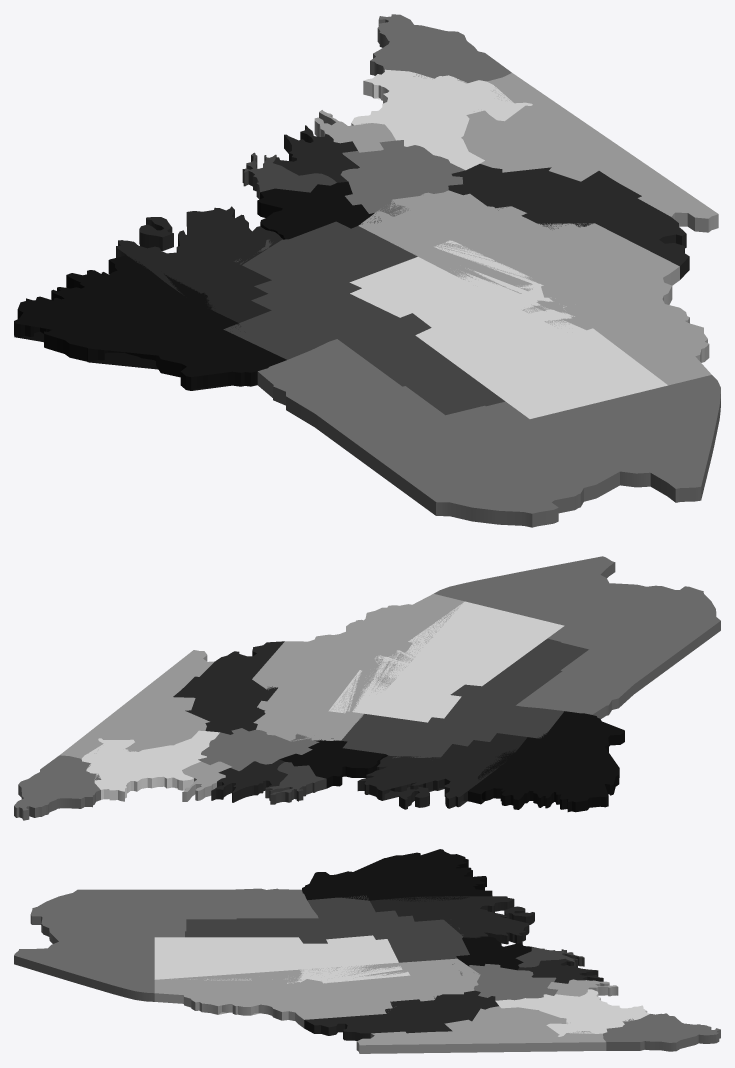
The model's file is Maine_Counties_3D.fbx.
3 views of the same model, one above another, from view 1: azimuth 30°, elevation 25°; view 2: azimuth 150°, elevation 25°; view 3: azimuth 270°, elevation 25° (orthographic). The views are drawn at different scales.
Parts seen in each view (by area): view 1: ME_Aroostook_County_3D, ME_Somerset_County_3D, ME_Piscataquis_County_3D, ME_Penobscot_County_3D, ME_Washington_County_3D, ME_Oxford_County_3D, ME_Franklin_County_3D, ME_Hancock_County_3D, ME_Cumberland_County_3D, ME_Kennebec_County_3D, ME_York_County_3D, ME_Waldo_County_3D (+4 smaller); view 2: ME_Aroostook_County_3D, ME_Somerset_County_3D, ME_Piscataquis_County_3D, ME_Penobscot_County_3D, ME_Washington_County_3D, ME_Hancock_County_3D, ME_Oxford_County_3D, ME_Franklin_County_3D, ME_Cumberland_County_3D, ME_York_County_3D, ME_Kennebec_County_3D, ME_Waldo_County_3D (+4 smaller); view 3: ME_Aroostook_County_3D, ME_Somerset_County_3D, ME_Piscataquis_County_3D, ME_Penobscot_County_3D, ME_Oxford_County_3D, ME_Washington_County_3D, ME_Hancock_County_3D, ME_Franklin_County_3D, ME_York_County_3D, ME_Cumberland_County_3D, ME_Kennebec_County_3D, ME_Waldo_County_3D (+4 smaller).
Boxes of the visible parts, left/top/right/bottom form: ME_Aroostook_County_3D: left=257, top=339, right=720, bottom=527; ME_Somerset_County_3D: left=358, top=190, right=711, bottom=385; ME_Piscataquis_County_3D: left=349, top=240, right=667, bottom=418; ME_Penobscot_County_3D: left=223, top=221, right=505, bottom=415; ME_Washington_County_3D: left=14, top=255, right=286, bottom=390; ME_Oxford_County_3D: left=461, top=73, right=718, bottom=232; ME_Franklin_County_3D: left=448, top=164, right=689, bottom=279; ME_Hancock_County_3D: left=116, top=206, right=282, bottom=322; ME_Cumberland_County_3D: left=351, top=69, right=532, bottom=125; ME_Kennebec_County_3D: left=340, top=140, right=465, bottom=216; ME_York_County_3D: left=370, top=14, right=511, bottom=83; ME_Waldo_County_3D: left=257, top=181, right=381, bottom=239; ME_Aroostook_County_3D: left=434, top=556, right=720, bottom=718; ME_Somerset_County_3D: left=252, top=594, right=464, bottom=741; ME_Piscataquis_County_3D: left=328, top=601, right=564, bottom=722; ME_Penobscot_County_3D: left=341, top=638, right=588, bottom=758; ME_Washington_County_3D: left=468, top=711, right=624, bottom=812; ME_Hancock_County_3D: left=357, top=733, right=527, bottom=809; ME_Oxford_County_3D: left=60, top=650, right=214, bottom=758; ME_Franklin_County_3D: left=173, top=641, right=284, bottom=734; ME_Cumberland_County_3D: left=81, top=738, right=193, bottom=801; ME_York_County_3D: left=14, top=755, right=101, bottom=820; ME_Kennebec_County_3D: left=198, top=728, right=319, bottom=770; ME_Waldo_County_3D: left=280, top=738, right=387, bottom=788; ME_Aroostook_County_3D: left=14, top=888, right=318, bottom=1001; ME_Somerset_County_3D: left=154, top=958, right=480, bottom=1027; ME_Piscataquis_County_3D: left=154, top=935, right=410, bottom=983; ME_Penobscot_County_3D: left=185, top=895, right=469, bottom=962; ME_Oxford_County_3D: left=356, top=1006, right=606, bottom=1053; ME_Washington_County_3D: left=302, top=849, right=492, bottom=901; ME_Hancock_County_3D: left=370, top=896, right=534, bottom=944; ME_Franklin_County_3D: left=304, top=990, right=498, bottom=1040; ME_York_County_3D: left=603, top=1013, right=720, bottom=1051; ME_Cumberland_County_3D: left=546, top=989, right=649, bottom=1036; ME_Kennebec_County_3D: left=459, top=964, right=557, bottom=1000; ME_Waldo_County_3D: left=452, top=937, right=531, bottom=970.
Bounding box in the file's own units: 482 × 10 × 734.
